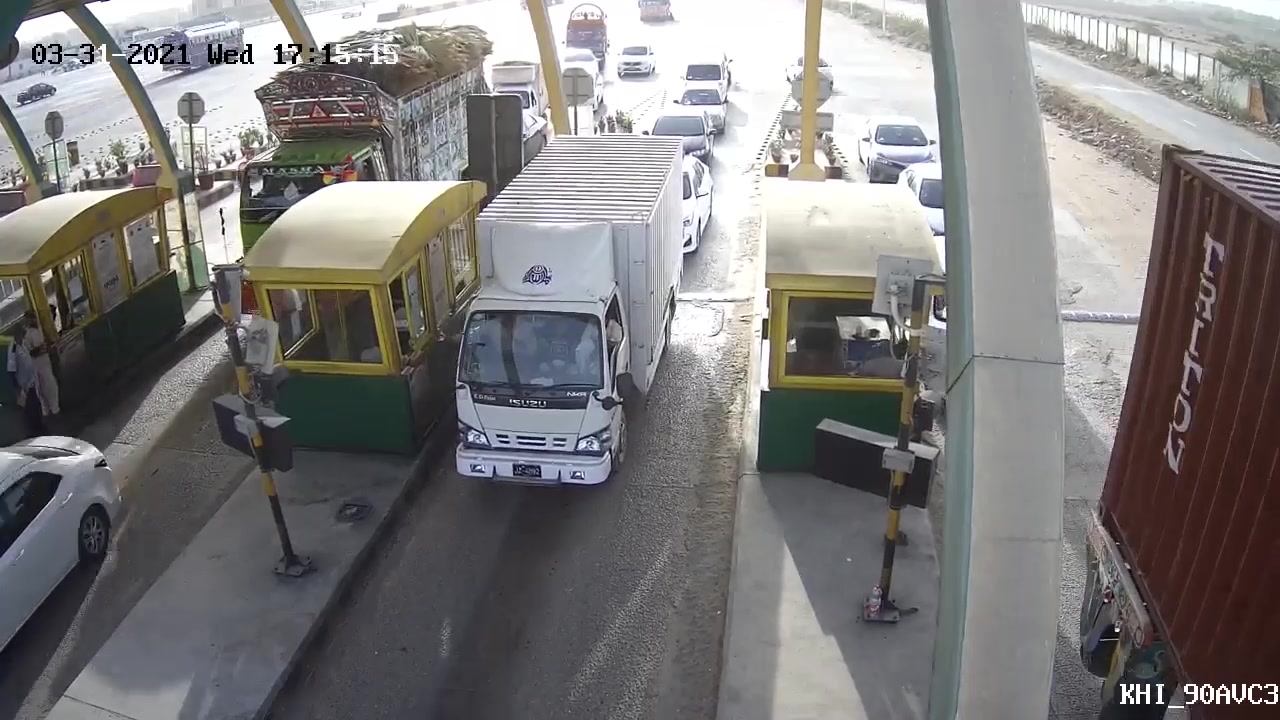F3: (441, 125, 692, 506)
